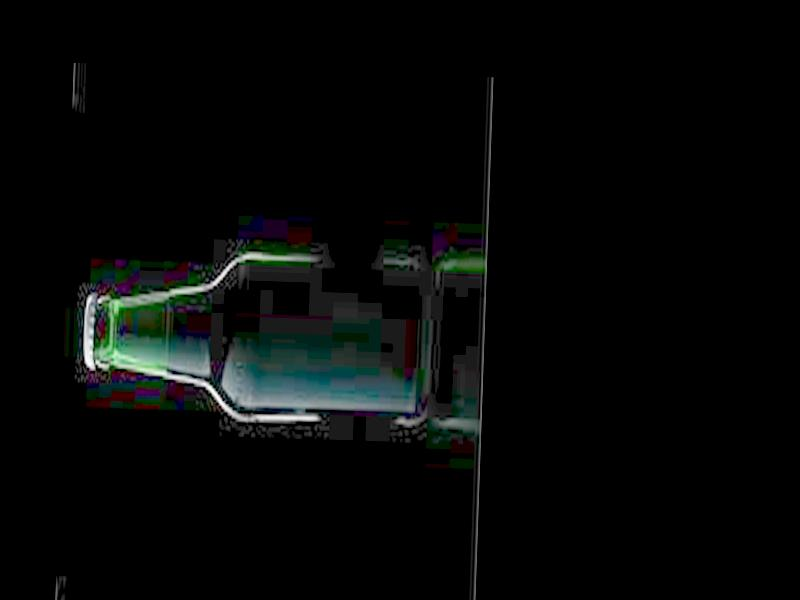Beer: (80, 247, 428, 433)
